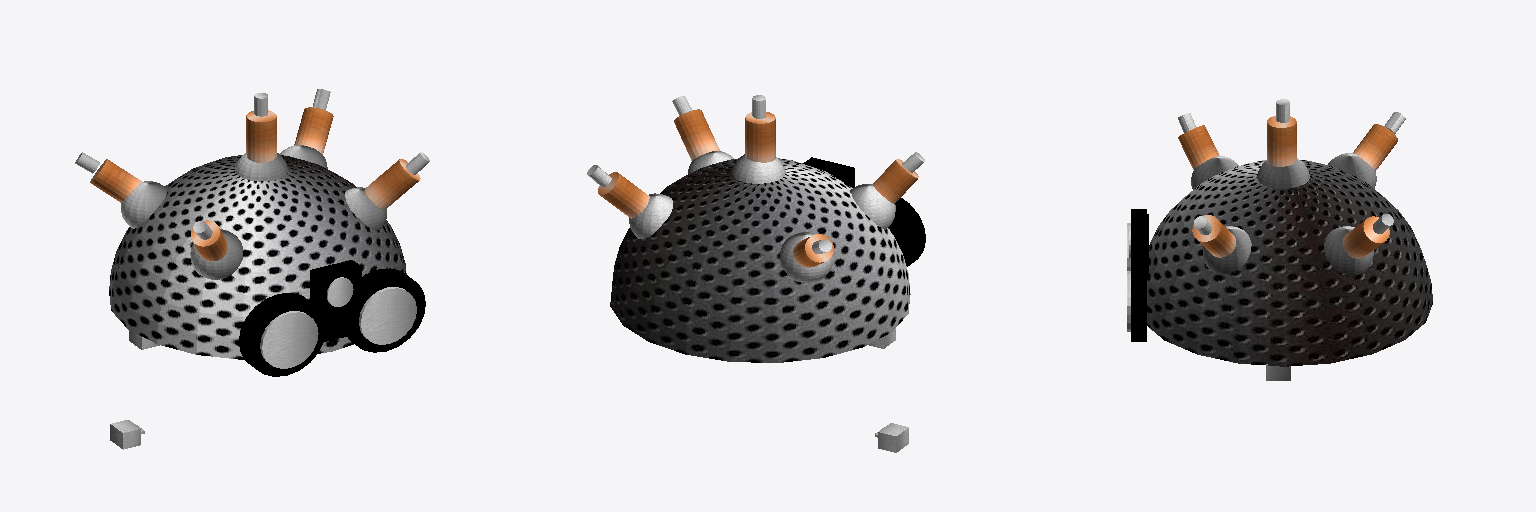
The picture shows the model from 3 angles: view 1: azimuth 30°, elevation 25°; view 2: azimuth 150°, elevation 25°; view 3: azimuth 270°, elevation 25°; orthographic projection.
Bounding box in the file's own units: 3.43 × 3.77 × 3.33.
Materials: 10 (3 with a texture image).